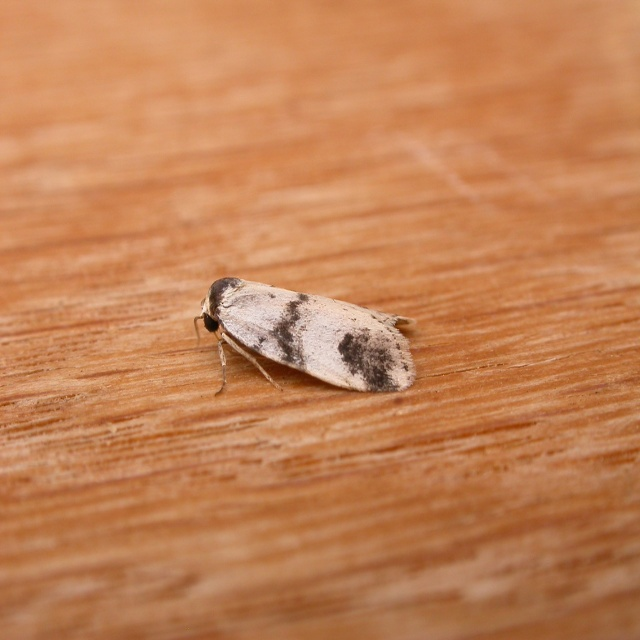Moths and butterflies: (194, 274, 414, 402)
